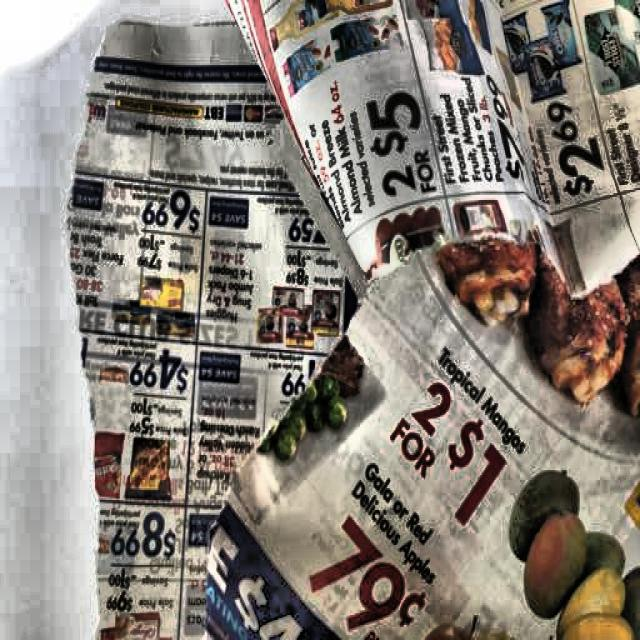paper: (61, 12, 622, 640)
